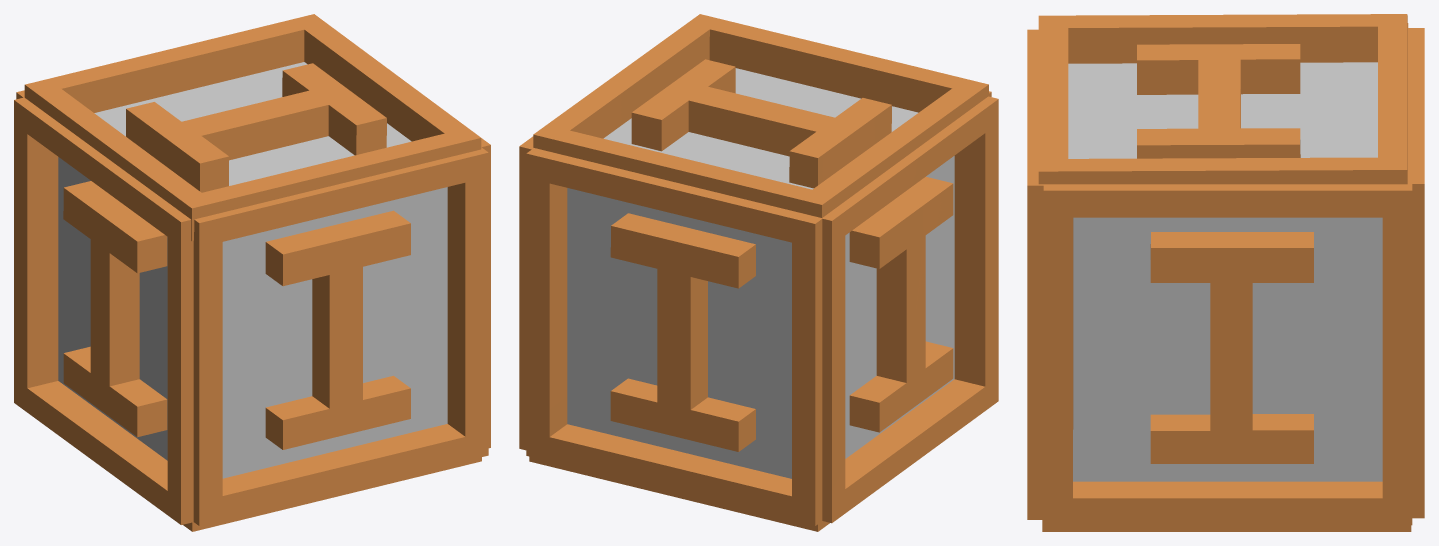
The model's file is I_Block.fbx.
The picture shows the model from 3 angles, left to right: view 1: azimuth 30°, elevation 25°; view 2: azimuth 150°, elevation 25°; view 3: azimuth 270°, elevation 25°; orthographic projection. The views are drawn at different scales.
Parts seen in each view (by area): view 1: pCube69, pCube69.001; view 2: pCube69, pCube69.001; view 3: pCube69, pCube69.001.
Boxes of the visible parts, x1,y1,x2,y2 form: pCube69: (14,14,490,531); pCube69.001: (58,62,447,478); pCube69: (519,14,998,531); pCube69.001: (567,68,954,478); pCube69: (1027,14,1424,531); pCube69.001: (1068,62,1382,481).
Size of the model in its own units: 53.83 by 53.96 by 53.83.
